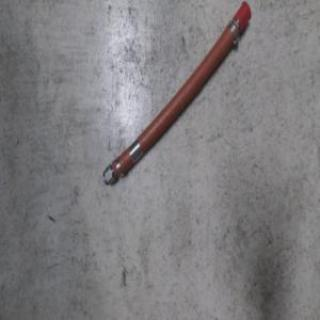Hosetrack_idkeyframe: (99, 0, 252, 188)
